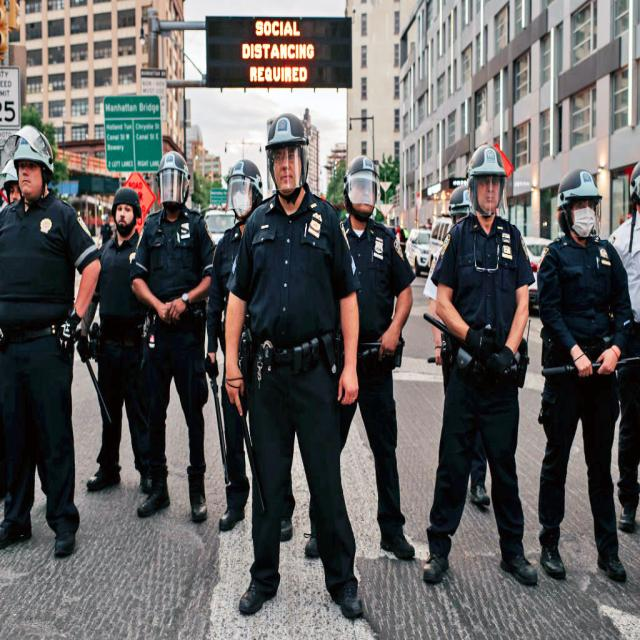police: (215, 101, 377, 630), (0, 98, 106, 571), (532, 148, 629, 562), (432, 135, 522, 536), (336, 154, 419, 575), (124, 143, 215, 509), (78, 176, 145, 510), (205, 146, 261, 533)
